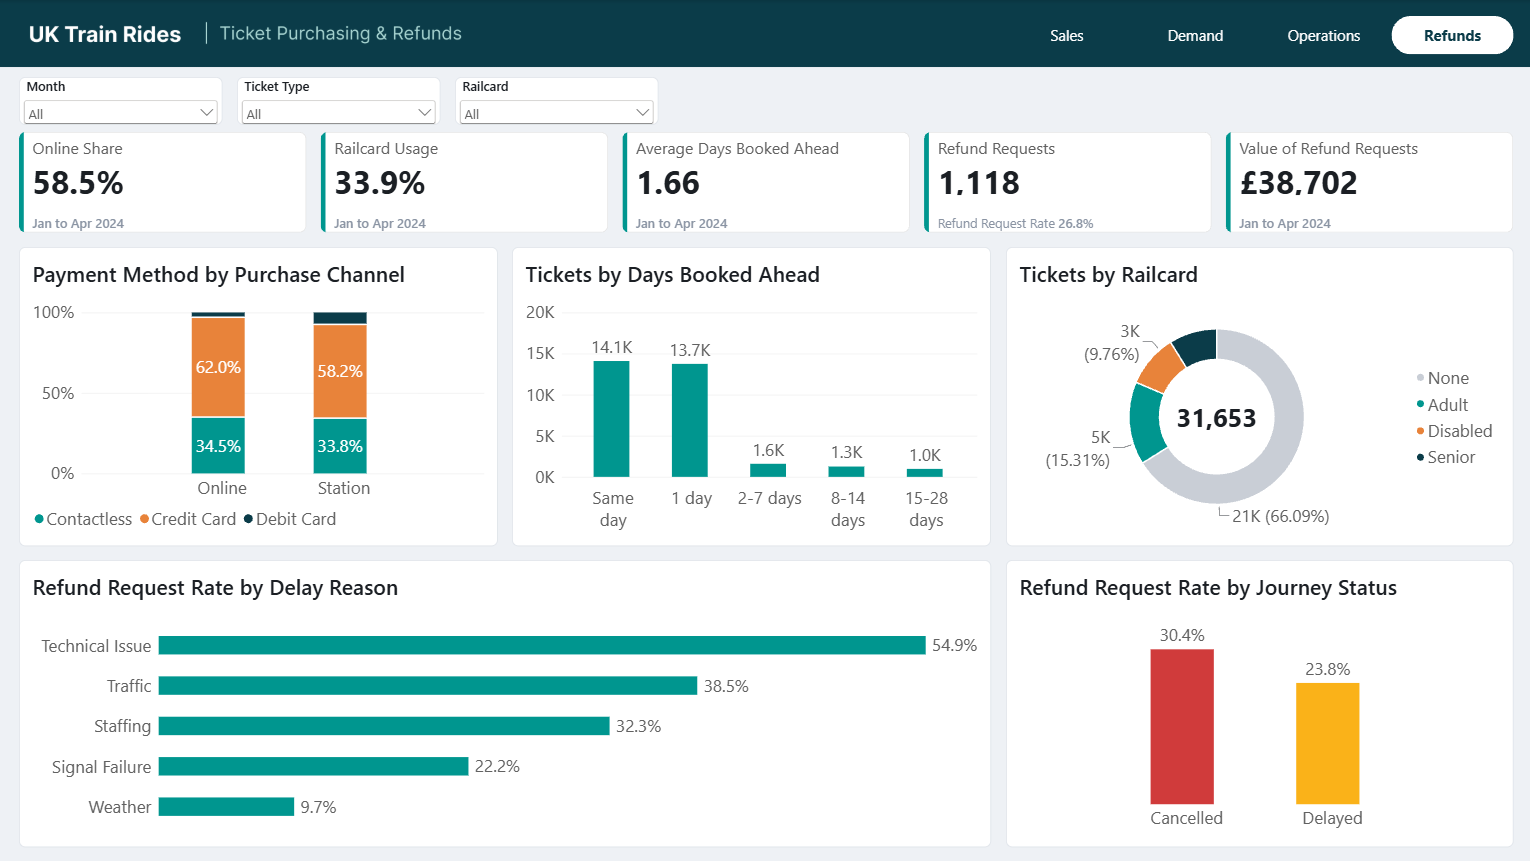

The dashboard page shown, as its layout file describes it:
{"tool":"powerbi","page":{"name":"Refunds","canvas":[1920,1080],"ordinal":3},"visuals":[{"type":"pageNavigator","box":[1260,20,636,48],"z":0},{"type":"cardVisual","fields":{"Data":["_Measures.Online Share","_Measures.Railcard Usage","_Measures.Average Days Booked Ahead","_Measures.Refund Requests","_Measures.Value of Refund Requests"]},"box":[24,165,1872,126],"z":1000},{"type":"slicer","fields":{"Values":["Dim_Date.Month Name"]},"box":[24,96,255,60],"z":2000},{"type":"slicer","fields":{"Values":["Dim_TicketType.Ticket_Type"]},"box":[297,96,255,60],"z":3000},{"type":"slicer","fields":{"Values":["Dim_Railcard.Railcard"]},"box":[570,96,255,60],"z":4000},{"type":"hundredPercentStackedColumnChart","title":"Payment Method by Purchase Channel","fields":{"Category":["Dim_PurchaseType.Purchase_Type"],"Series":["Dim_PaymentMethod.Payment_Method"],"Y":["_Measures.Payment Method Share"]},"box":[24,309,600,375],"z":5000},{"type":"clusteredColumnChart","title":"Tickets by Days Booked Ahead","fields":{"Category":["Fact_TicketSales.Booking Window"],"Y":["_Measures.Tickets Sold"]},"box":[642,309,600,375],"z":6000},{"type":"donutChart","title":"Tickets by Railcard","fields":{"Category":["Dim_Railcard.Railcard"],"Y":["_Measures.Tickets Sold"]},"box":[1260,309,636,375],"z":7000},{"type":"barChart","title":"Refund Request Rate by Delay Reason","fields":{"Category":["Dim_DelayReason.Reason_for_Delay"],"Y":["_Measures.Refund Request Rate"]},"box":[24,702,1218,360],"z":8000},{"type":"clusteredColumnChart","title":"Refund Request Rate by Journey Status","fields":{"Category":["Fact_Journey.Journey_Status"],"Y":["_Measures.Refund Request Rate"]},"box":[1260,702,636,360],"z":9000}]}

Visuals, with their boxes in screenshot pixels (x1, y1, x2, y2), scaled from the page's 1920x1080 canvas onto the 1530x861 screenshot:
pageNavigator: BBox(1004, 16, 1511, 54)
cardVisual - _Measures.Online Share x _Measures.Railcard Usage: BBox(19, 132, 1511, 232)
slicer - Dim_Date.Month Name: BBox(19, 77, 222, 124)
slicer - Dim_TicketType.Ticket_Type: BBox(237, 77, 440, 124)
slicer - Dim_Railcard.Railcard: BBox(454, 77, 657, 124)
"Payment Method by Purchase Channel" hundredPercentStackedColumnChart: BBox(19, 246, 497, 545)
"Tickets by Days Booked Ahead" clusteredColumnChart: BBox(512, 246, 990, 545)
"Tickets by Railcard" donutChart: BBox(1004, 246, 1511, 545)
"Refund Request Rate by Delay Reason" barChart: BBox(19, 560, 990, 847)
"Refund Request Rate by Journey Status" clusteredColumnChart: BBox(1004, 560, 1511, 847)
